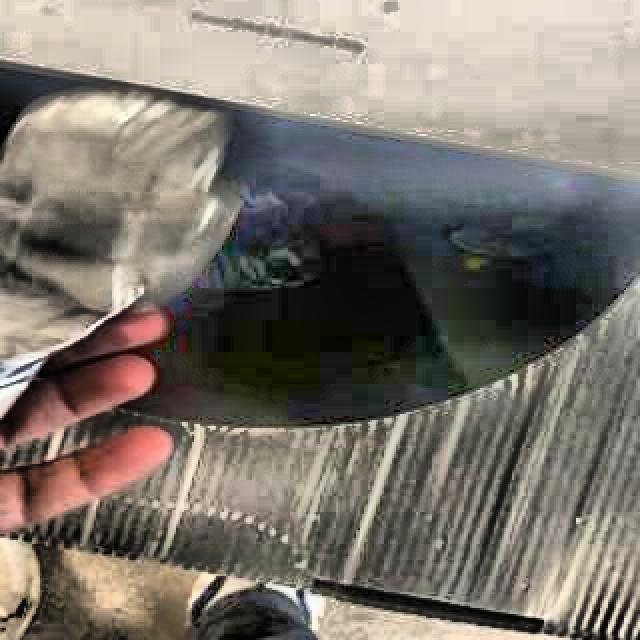metal: (0, 86, 240, 419)
